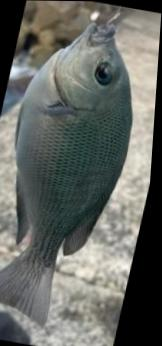fish: (0, 21, 135, 329)
